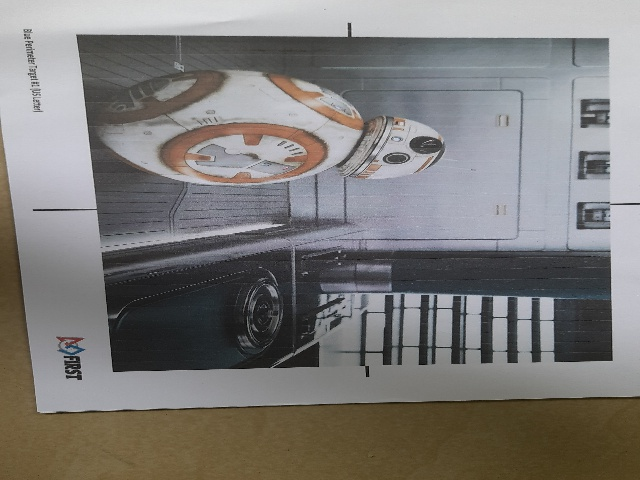bpt1: (15, 13, 640, 392)
